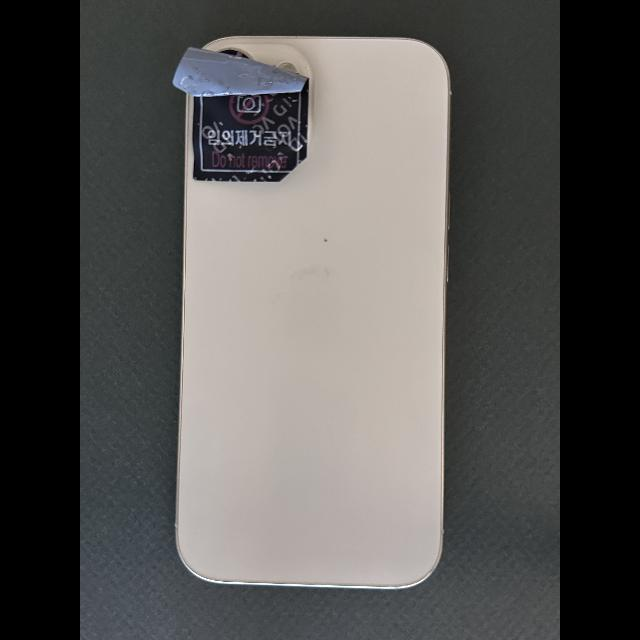lens: (218, 48, 253, 60)
phone: (174, 36, 451, 589)
sticker: (172, 46, 310, 183)
